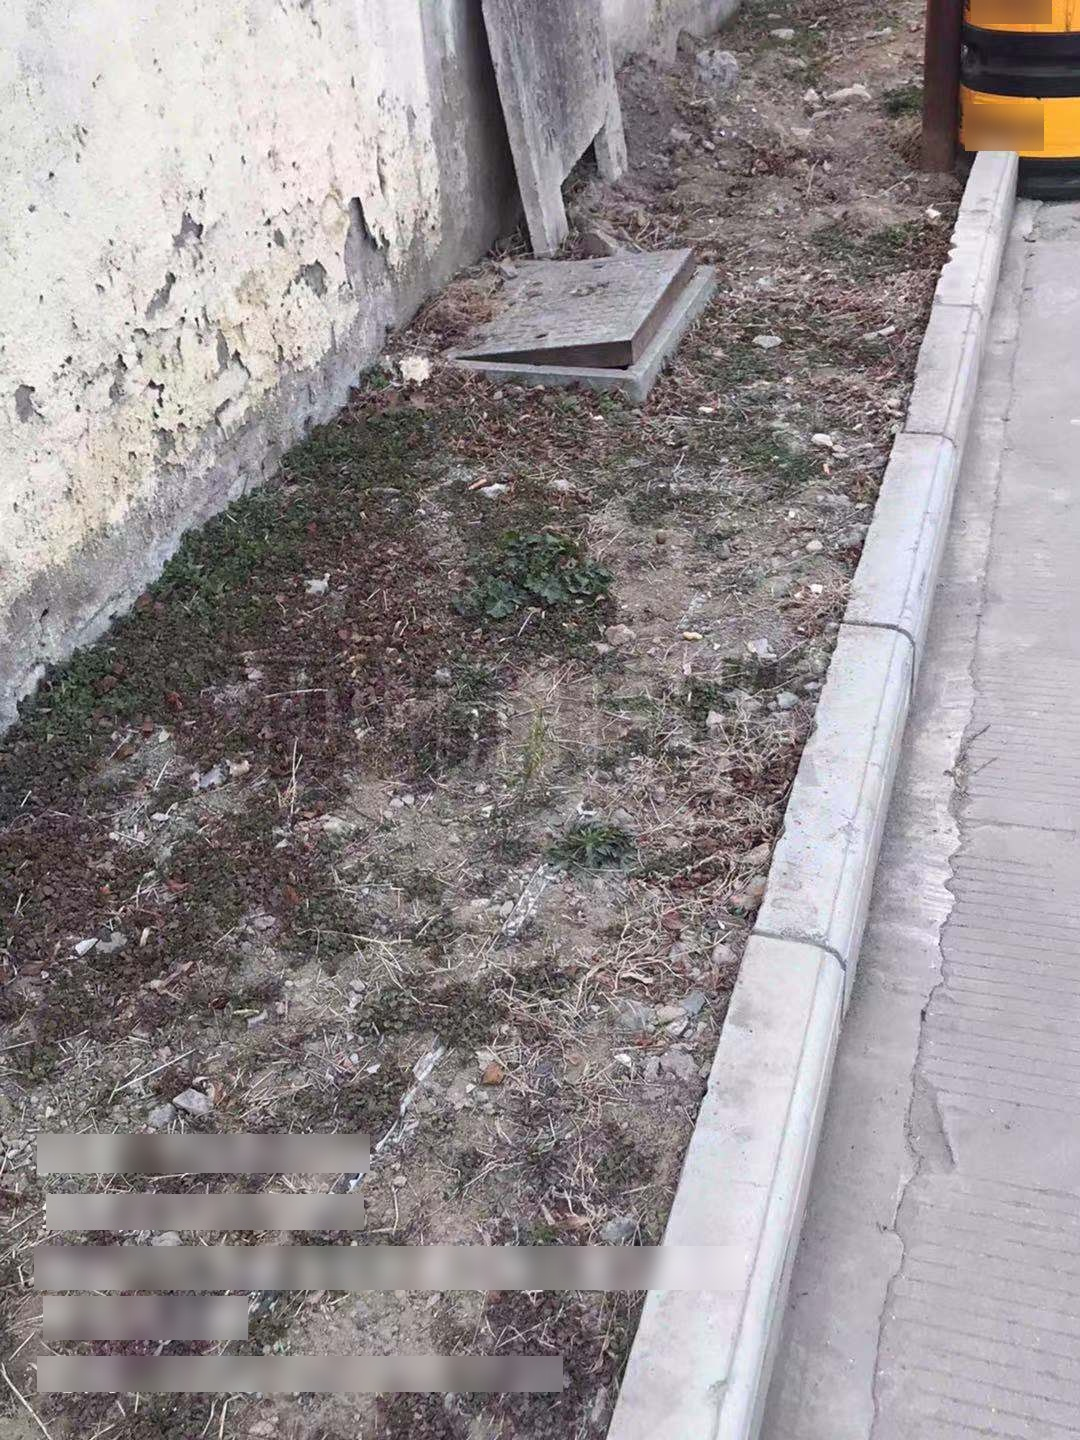uncovered: (433, 247, 719, 395)
